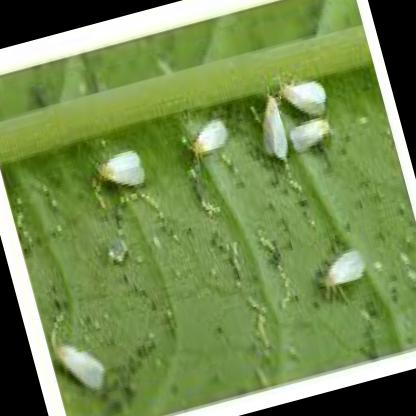whitefly: (57, 344, 103, 389), (99, 150, 144, 183), (265, 93, 287, 159), (282, 82, 327, 114), (193, 120, 227, 158)
